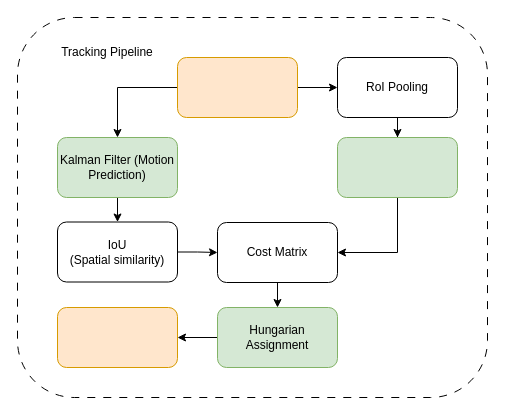
The diagram is 505 pixels wide and 415 high, and some of its shapes have lost their labels. The centre of each missing label's shape, as x and y in pixels:
Cosine Similarity (Appearance): point 397,167
Update Tracks: point 117,337
YOLO (Detect): point 237,87
